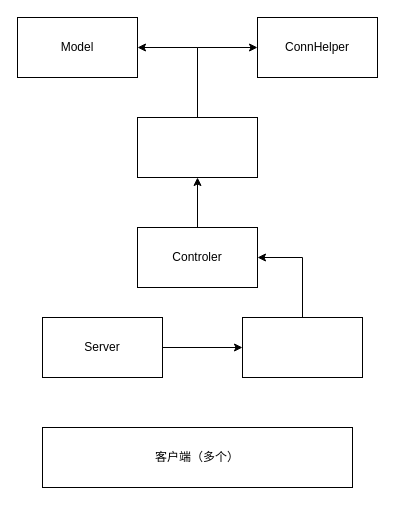
This 395x505 diagram has some shape labels left out. The shapes that lost their labels are listed below. From the top down, each one's centre as x and y in pixels, then its label:
[197,147]: DAO
[302,347]: Client
